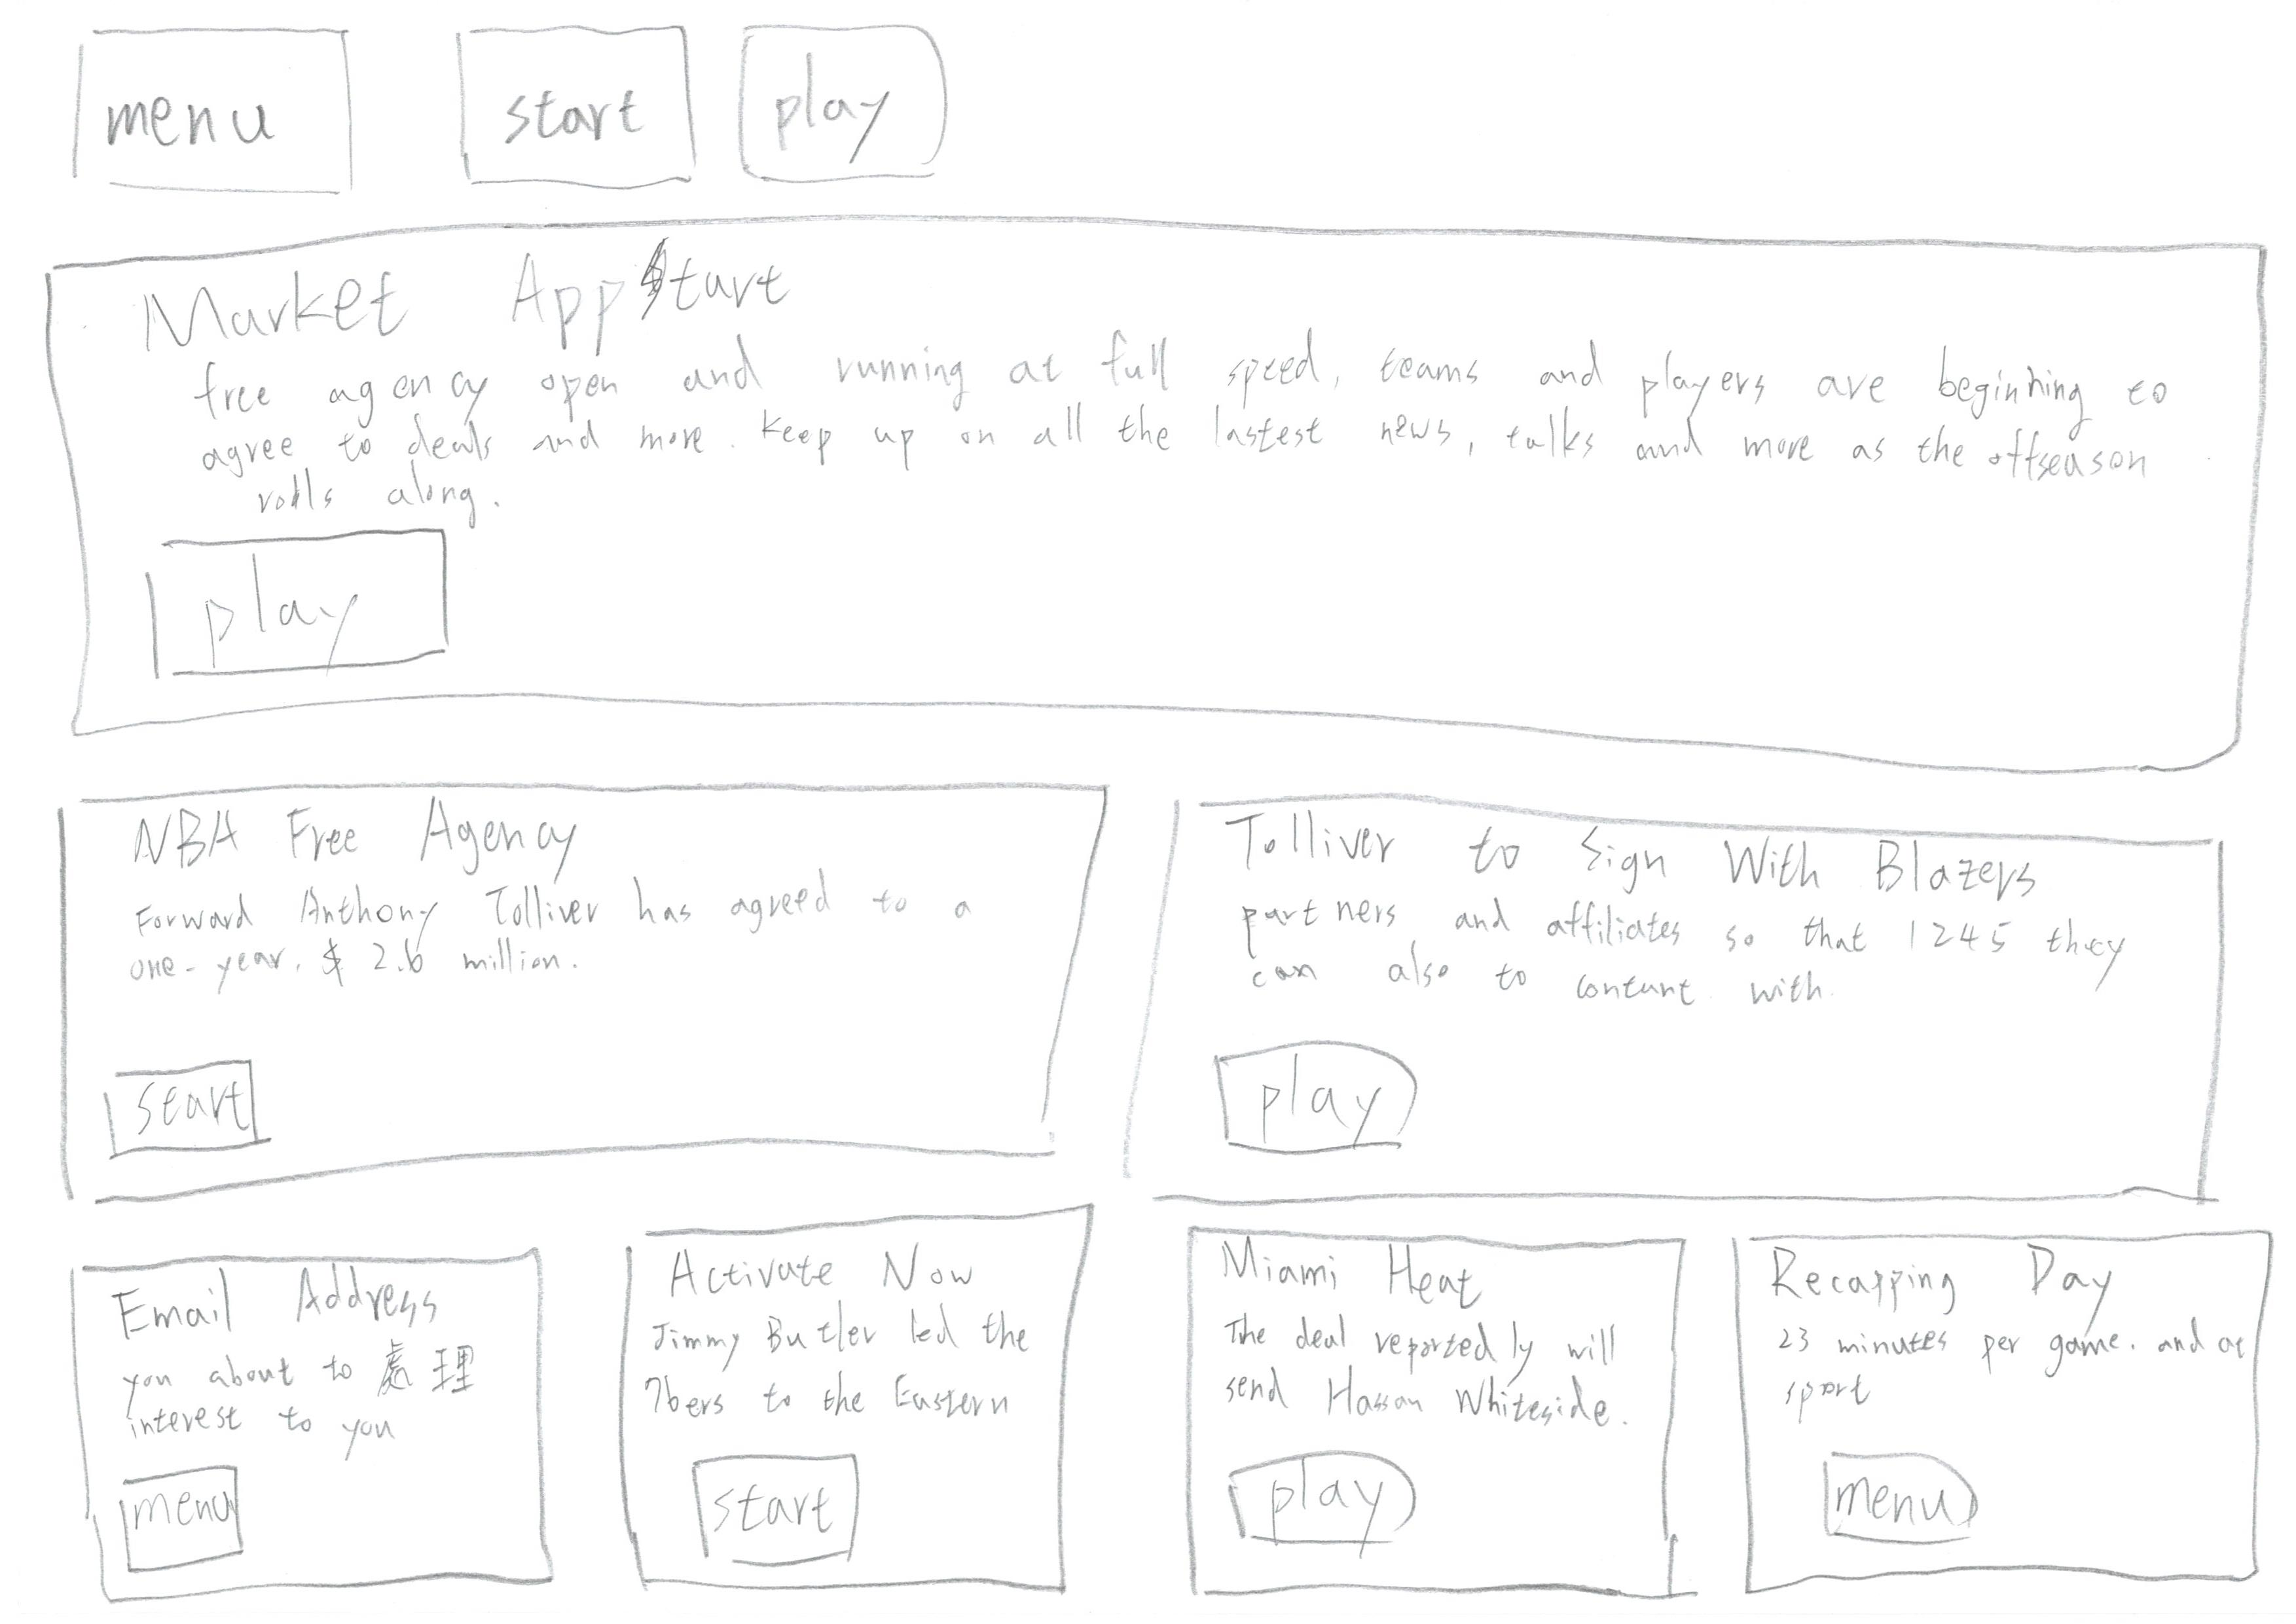double: (25, 765, 1146, 1207), (1123, 766, 2245, 1209)
menu: (67, 9, 390, 209), (1791, 1425, 2015, 1550), (100, 1455, 278, 1598)
play: (132, 518, 515, 708), (710, 7, 963, 195), (1211, 1443, 1429, 1582)
quadruple: (46, 1209, 598, 1624), (1730, 1206, 2282, 1620), (578, 1202, 1129, 1617), (1146, 1206, 1697, 1620)
row: (16, 185, 2296, 805), (16, 1144, 2296, 1624), (16, 740, 2296, 1218), (16, 0, 2296, 255)
single: (14, 178, 2296, 796)
small-title: (1275, 794, 2052, 921), (144, 265, 825, 339), (123, 782, 596, 875), (1760, 1251, 2171, 1325), (97, 1276, 464, 1345), (1201, 1251, 1508, 1313)
start: (418, 7, 714, 213), (675, 1431, 888, 1587), (100, 1033, 299, 1172)
text: (167, 337, 2203, 496), (139, 858, 999, 1002), (1243, 893, 2169, 1026), (645, 1244, 1025, 1413), (1208, 1309, 1635, 1443), (1795, 1327, 2257, 1429), (113, 1355, 490, 1446)
